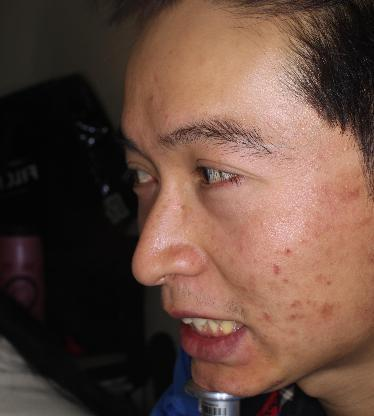Nodules: (276, 241, 296, 263), (267, 261, 285, 280)
acne scar: (311, 296, 339, 327), (260, 308, 277, 325), (288, 297, 305, 311), (287, 311, 299, 323)
